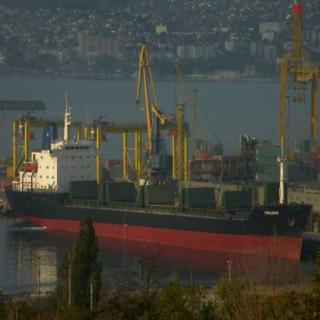Bulk Carrier: (0, 33, 320, 265)
